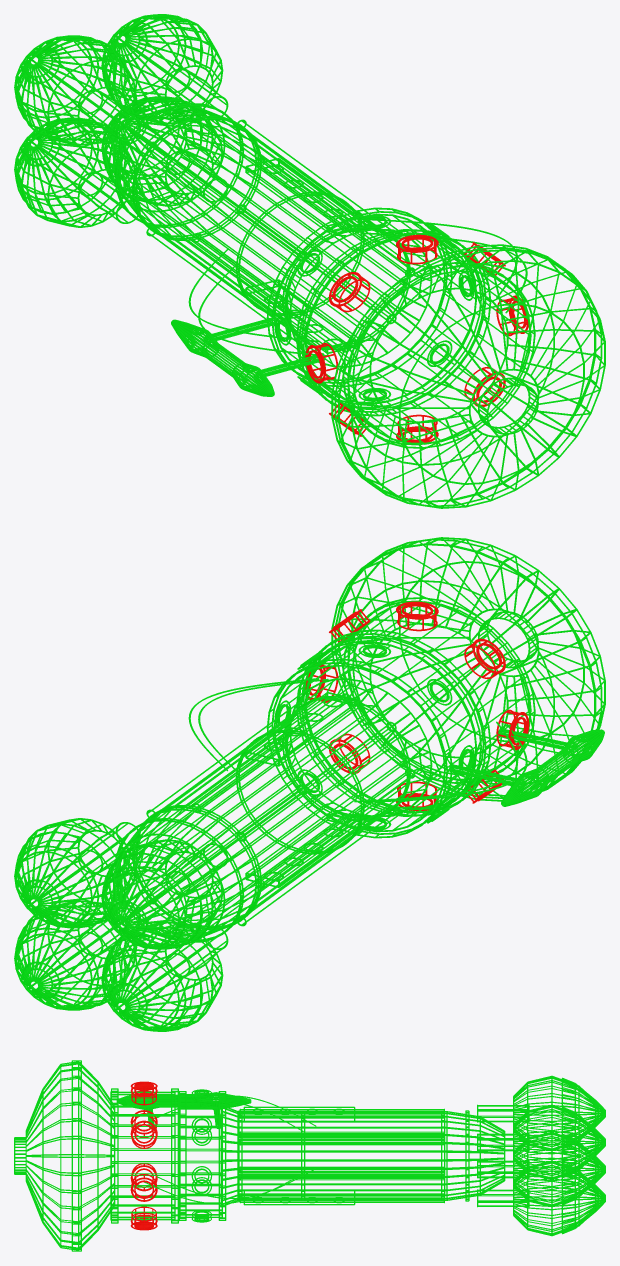
The model's file is mk2-deep-bore-mine-highlight-coolant-connectors.glb.
3 renders of one model, top to bottom at view 1: azimuth 30°, elevation 25°; view 2: azimuth 150°, elevation 25°; view 3: azimuth 270°, elevation 25°, orthographic. The views are drawn at different scales.
Visible parts, largest first — view 1: chassis technical wire, drill-assemblies technical wire, coolant-connectors technical wire, radio-seismic-probe technical wire; view 2: chassis technical wire, drill-assemblies technical wire, coolant-connectors technical wire, radio-seismic-probe technical wire; view 3: chassis technical wire, drill-assemblies technical wire, coolant-connectors technical wire, radio-seismic-probe technical wire.
Part boxes in pixels (x1,y1,x2,y2): chassis technical wire: (78,68,605,508); drill-assemblies technical wire: (14,14,223,227); coolant-connectors technical wire: (305,234,528,442); radio-seismic-probe technical wire: (171,319,274,396); chassis technical wire: (78,537,605,977); drill-assemblies technical wire: (14,818,223,1031); coolant-connectors technical wire: (305,601,529,810); radio-seismic-probe technical wire: (501,729,604,806); chassis technical wire: (14,1060,529,1251); drill-assemblies technical wire: (513,1075,605,1236); coolant-connectors technical wire: (130,1081,157,1230); radio-seismic-probe technical wire: (116,1092,251,1110).
Size of the model in its own units: 2.04 by 1.46 by 4.62.
